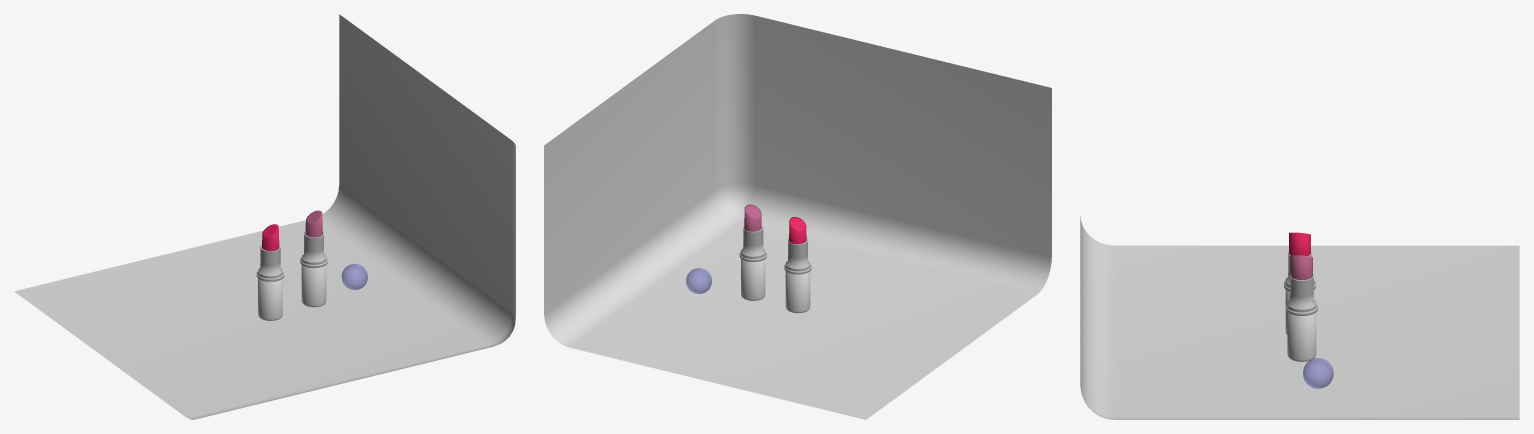
File: lip.glb
3 views of the same model, side by side, from view 1: azimuth 30°, elevation 25°; view 2: azimuth 150°, elevation 25°; view 3: azimuth 270°, elevation 25° (orthographic). The views are drawn at different scales.
Parts seen in each view (by area): view 1: 平面, 円柱.002, 円柱, 円柱.001, 円柱.004, 球; view 2: 平面, 円柱, 円柱.002, 円柱.004, 円柱.001, 球; view 3: 平面, 円柱.002, 円柱.004, 球, 円柱.005, 円柱.003.
Part boxes in pixels (<box>): 平面: <box>14,14,515,419</box>; 円柱.002: <box>301,265,326,307</box>; 円柱: <box>258,279,282,320</box>; 円柱.001: <box>256,245,284,281</box>; 円柱.004: <box>300,231,327,267</box>; 球: <box>341,263,367,290</box>; 平面: <box>544,14,1051,419</box>; 円柱: <box>785,271,810,313</box>; 円柱.002: <box>741,259,765,300</box>; 円柱.004: <box>739,226,766,261</box>; 円柱.001: <box>784,238,811,274</box>; 球: <box>686,268,711,293</box>; 平面: <box>1080,216,1519,419</box>; 円柱.002: <box>1287,312,1316,361</box>; 円柱.004: <box>1285,274,1317,315</box>; 球: <box>1303,358,1333,388</box>; 円柱.005: <box>1291,255,1312,279</box>; 円柱.003: <box>1289,232,1310,255</box>.
Size of the model in its own units: 28.43 by 16.54 by 28.43.
